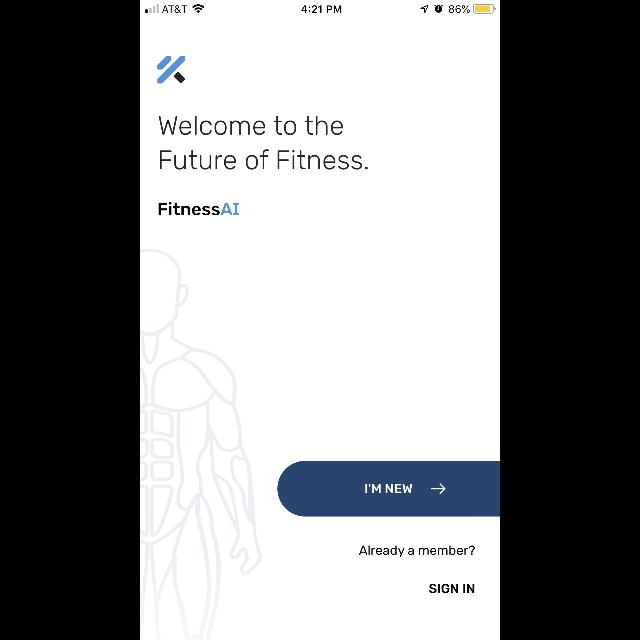icon: (431, 484, 445, 494)
image: (141, 248, 263, 640), (158, 56, 186, 84)
text: (158, 116, 368, 170), (359, 545, 475, 557), (159, 202, 239, 215), (430, 584, 474, 594)
textbutton: (278, 461, 500, 517)
uppertaskbar: (140, 0, 500, 14)
